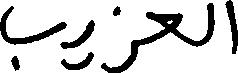X: (0, 1, 64, 72), (104, 1, 137, 72), (147, 7, 181, 48), (224, 0, 237, 58), (81, 15, 94, 72), (204, 0, 213, 48)
